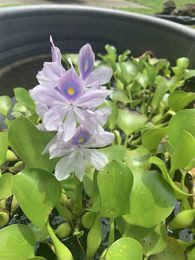water_hyacinth: (0, 38, 195, 260)
